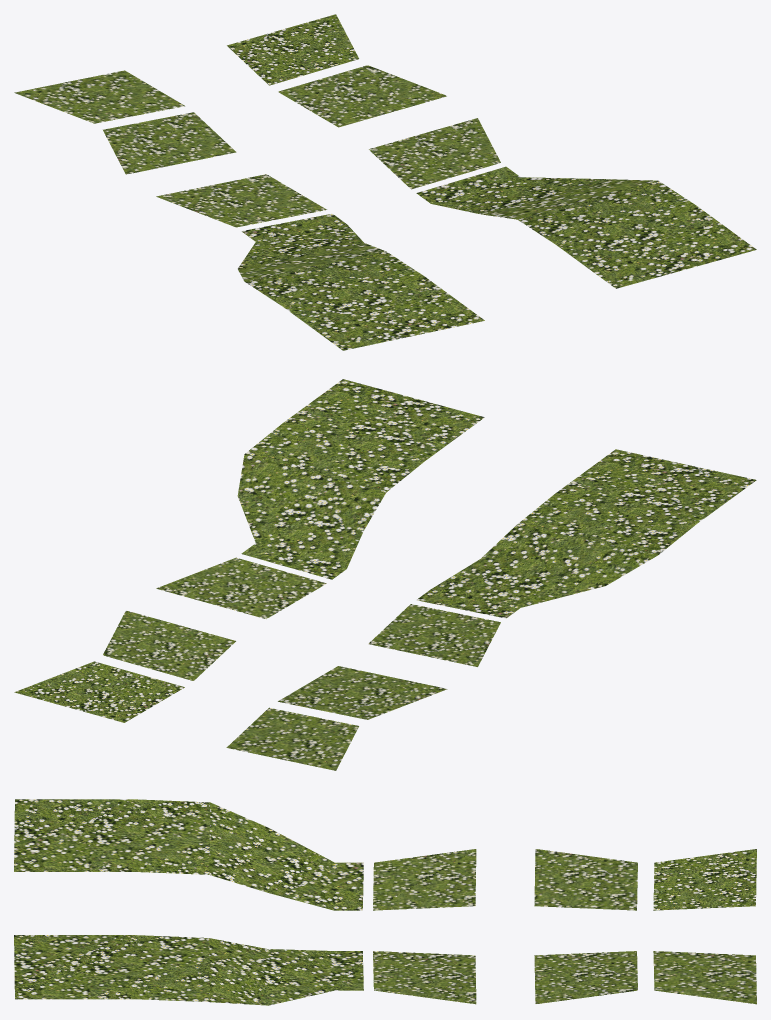
File: Level1_treeplacemesh.glb
3 views of the same model, one above another, from view 1: azimuth 30°, elevation 25°; view 2: azimuth 150°, elevation 25°; view 3: azimuth 270°, elevation 25° (orthographic).
Visible parts, largest first — view 1: treeplacing; view 2: treeplacing; view 3: treeplacing.
Boxes of the visible parts, box(x1,y1,x2,y2) form: treeplacing: box(14, 14, 756, 350); treeplacing: box(14, 379, 756, 770); treeplacing: box(14, 799, 756, 1005).
Bounding box in the file's own units: 143 × 10.48 × 224.
Materials: 1 (1 with a texture image).
